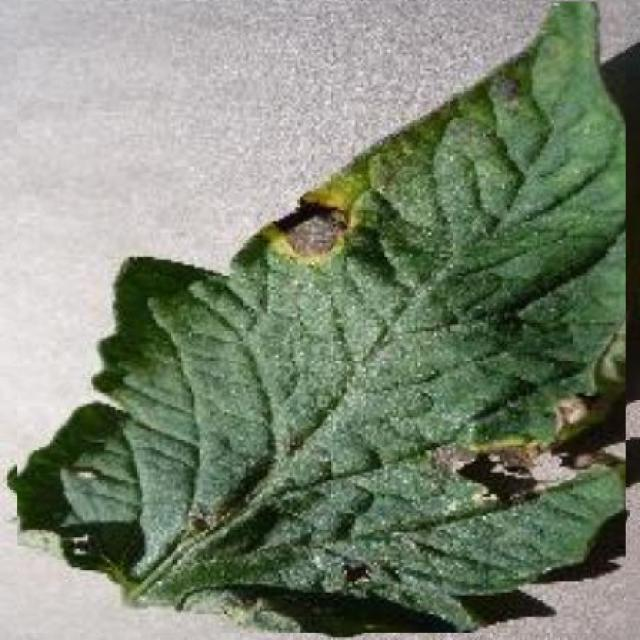Early Blight: (17, 1, 626, 633)
